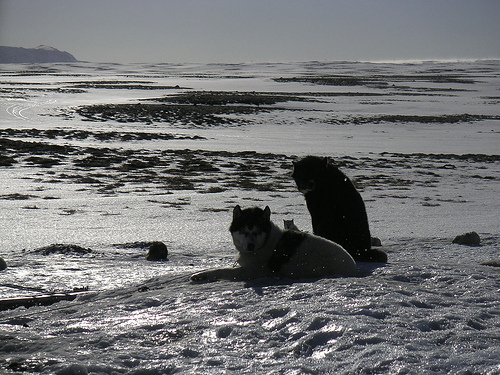dog: (190, 200, 361, 282), (292, 154, 388, 267)
